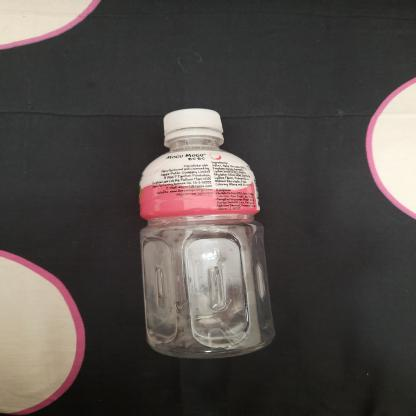bottle: (132, 103, 282, 362)
